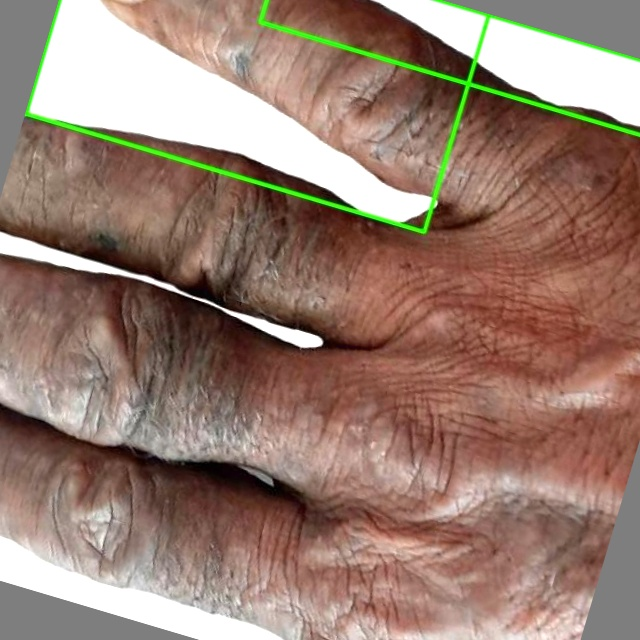Eczema: (25, 0, 488, 232), (260, 0, 639, 134)
